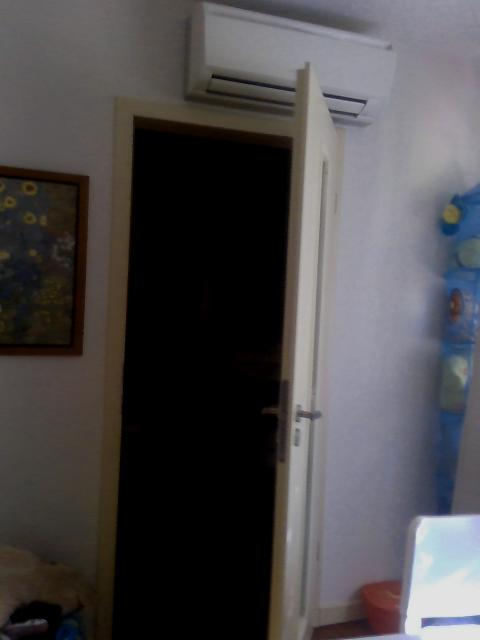semi_door: (96, 59, 347, 639)
